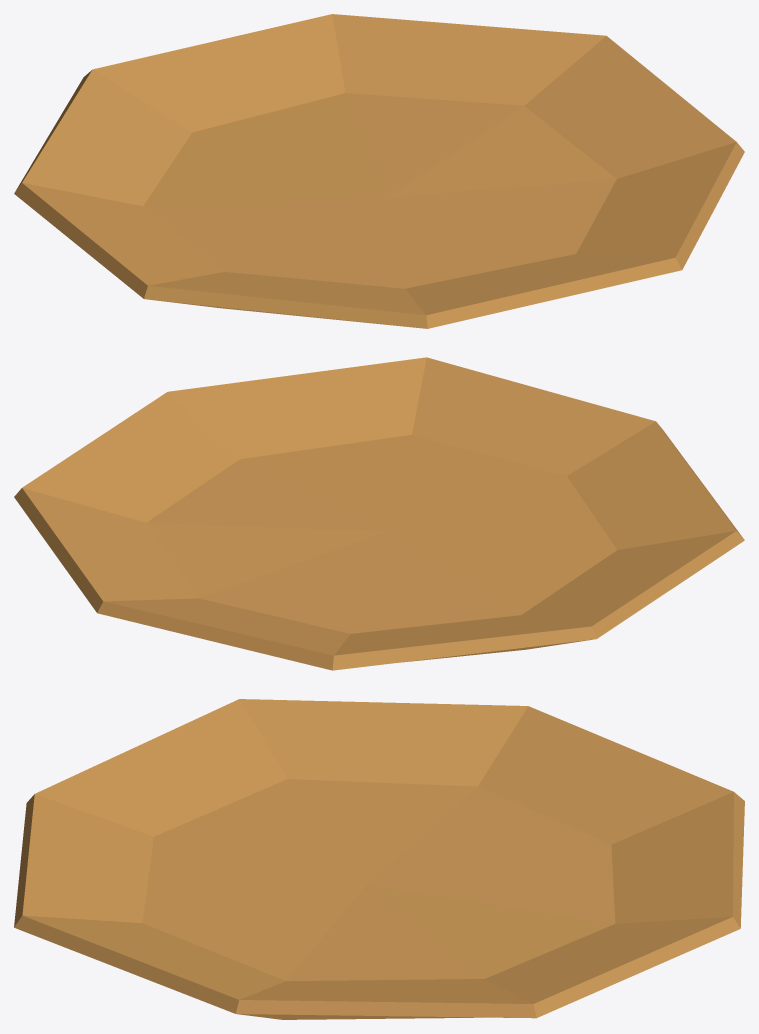
Rendered from SM_Prop_Gold_Plate_05.glb.
3 renders of one model, top to bottom at view 1: azimuth 30°, elevation 25°; view 2: azimuth 150°, elevation 25°; view 3: azimuth 270°, elevation 25°, orthographic. The views are drawn at different scales.
Visible parts, largest first — view 1: SM_Prop_Gold_Plate_05; view 2: SM_Prop_Gold_Plate_05; view 3: SM_Prop_Gold_Plate_05.
Part boxes in pixels (x1=…): SM_Prop_Gold_Plate_05: x1=14, y1=14, x2=744, y2=328; SM_Prop_Gold_Plate_05: x1=14, y1=357, x2=744, y2=670; SM_Prop_Gold_Plate_05: x1=14, y1=699, x2=744, y2=1019.
Bounding box in the file's own units: 1.14 × 0.116 × 1.12.
Materials: 1 (1 with a texture image).
